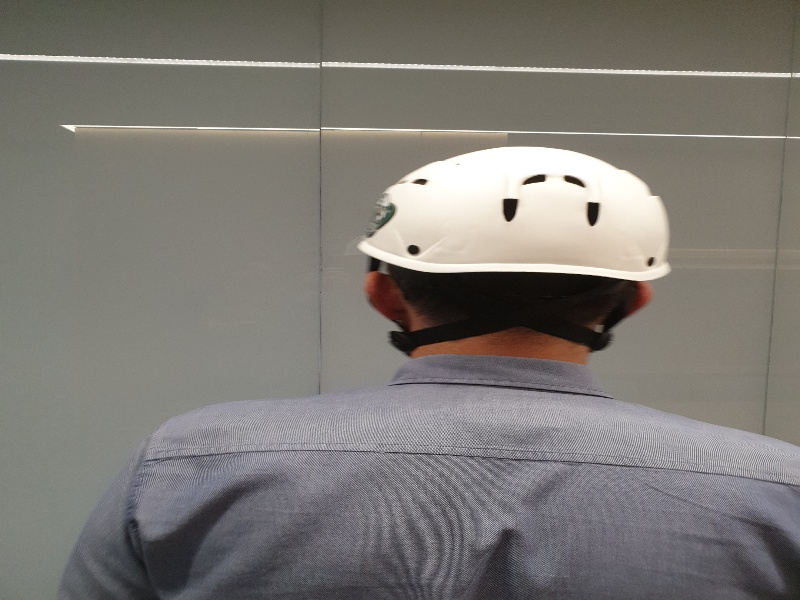Baret: (371, 142, 664, 281)
